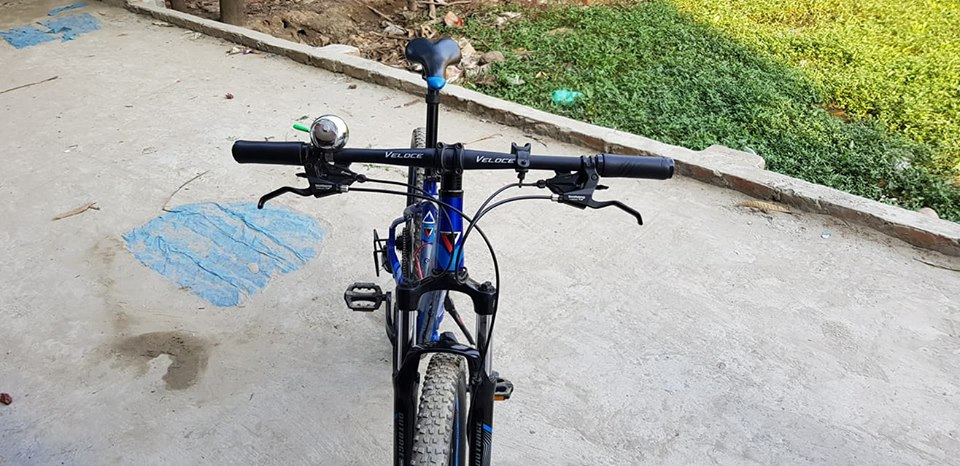bicycle: (230, 39, 698, 465)
